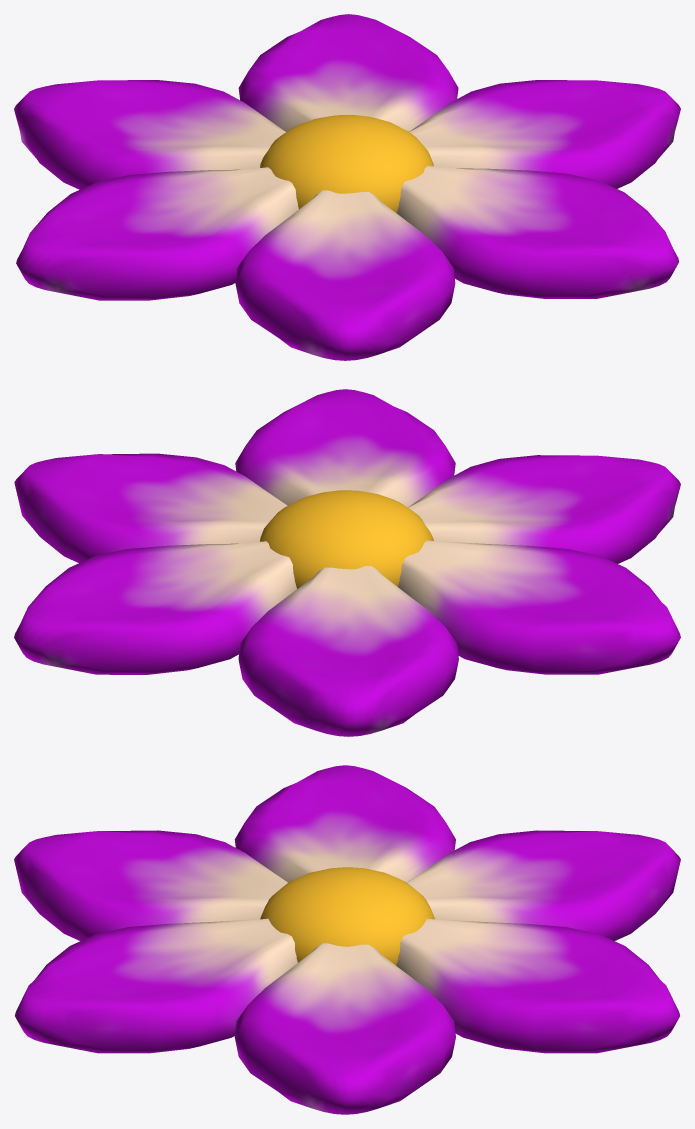
Rendered from hoa6.fbx.
3 views of the same model, one above another, from view 1: azimuth 30°, elevation 25°; view 2: azimuth 150°, elevation 25°; view 3: azimuth 270°, elevation 25° (orthographic).
Parts seen in each view (by area): view 1: polySurface84, pasted__polySurface81, polySurface83, polySurface81, pasted__polySurface82, polySurface82, polySurface33; view 2: polySurface82, pasted__polySurface81, polySurface81, pasted__polySurface82, polySurface83, polySurface84, polySurface33; view 3: polySurface82, polySurface84, pasted__polySurface82, polySurface83, polySurface81, pasted__polySurface81, polySurface33.
Part boxes in pixels (<box>): polySurface84: <box>396,165,678,298</box>; pasted__polySurface81: <box>16,167,298,300</box>; polySurface83: <box>235,190,455,360</box>; polySurface81: <box>14,80,285,189</box>; pasted__polySurface82: <box>409,80,680,188</box>; polySurface82: <box>238,14,458,131</box>; polySurface33: <box>260,115,433,212</box>; polySurface82: <box>14,541,296,674</box>; pasted__polySurface81: <box>398,540,680,674</box>; polySurface81: <box>238,565,458,736</box>; pasted__polySurface82: <box>14,453,287,562</box>; polySurface83: <box>408,455,680,563</box>; polySurface84: <box>235,389,455,507</box>; polySurface33: <box>260,490,433,588</box>; polySurface82: <box>396,918,679,1053</box>; polySurface84: <box>15,918,297,1053</box>; pasted__polySurface82: <box>234,943,455,1114</box>; polySurface83: <box>14,830,287,940</box>; polySurface81: <box>407,830,680,940</box>; pasted__polySurface81: <box>234,765,455,882</box>; polySurface33: <box>260,867,434,965</box>.
Bounding box in the file's own units: 89.33 × 12.42 × 77.57.
Materials: 1 (1 with a texture image).
